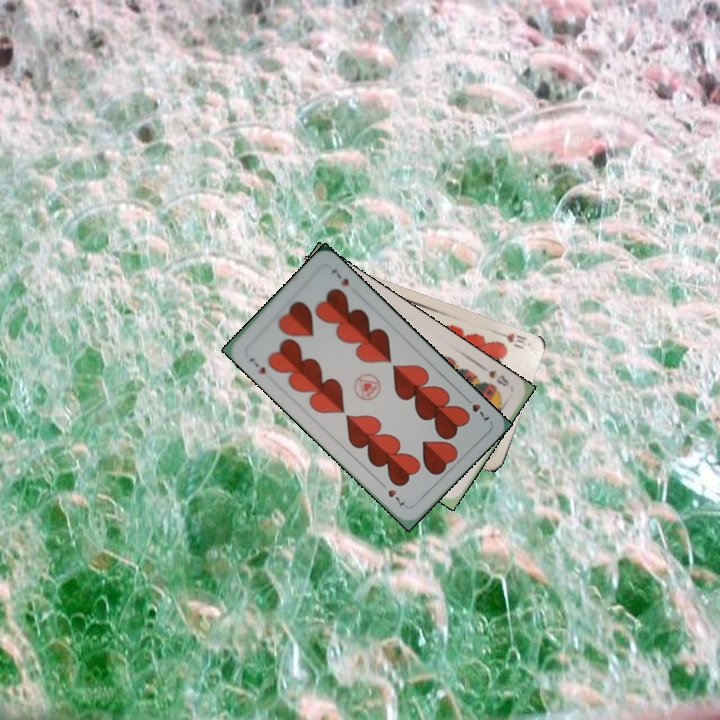H10: (492, 327, 531, 352)
H7: (460, 392, 492, 423), (245, 353, 268, 377)
S8: (484, 365, 511, 389)
